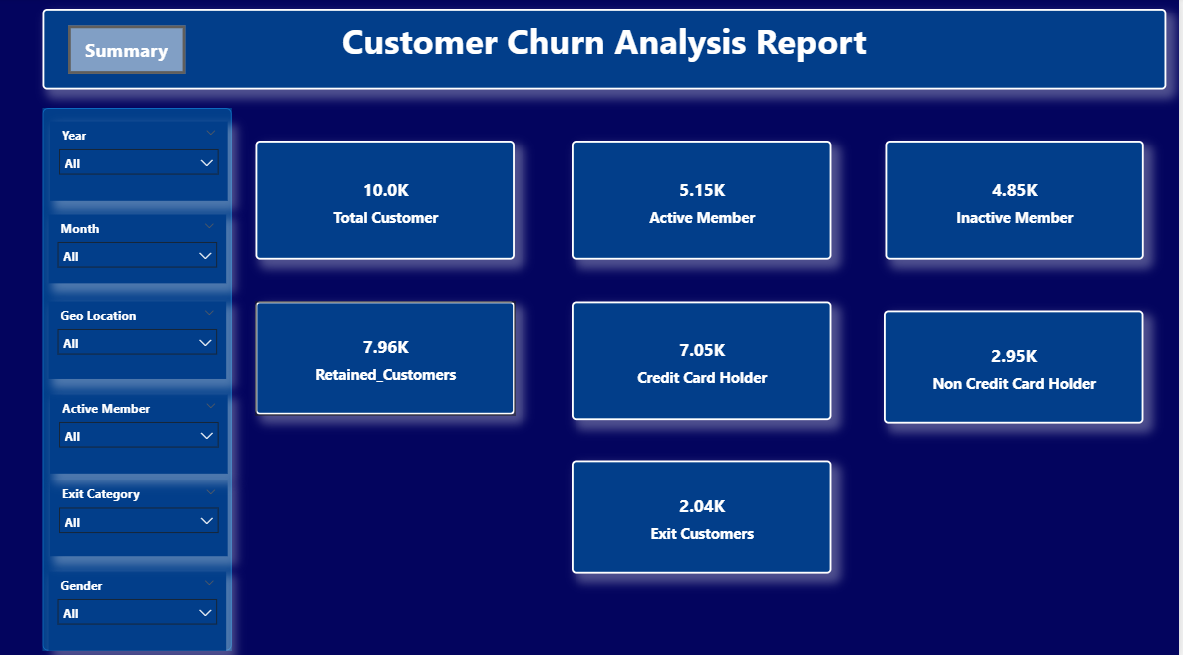

This screenshot's page, from the dashboard's own definition file:
{"tool":"powerbi","page":{"name":"All KPI","canvas":[1280,720],"ordinal":0},"visuals":[{"type":"card","fields":{"Values":["KPI.Total_customers"]},"box":[278.4,155.9,281.5,128.8],"z":0},{"type":"textbox","box":[47.7,12.7,1218.4,87.5],"z":1000},{"type":"card","fields":{"Values":["KPI.Active Customers"]},"box":[621.9,155.9,281.5,128.8],"z":2000},{"type":"card","fields":{"Values":["KPI.Inactive Member"]},"box":[960.7,155.9,279.9,128.8],"z":3000},{"type":"card","fields":{"Values":["KPI.Card Holder"]},"box":[621.9,330.8,281.5,128.8],"z":4000},{"type":"card","fields":{"Values":["KPI.Have No Card"]},"box":[959.1,340.4,281.5,122.5],"z":5000},{"type":"card","fields":{"Values":["KPI.Exit Customer"]},"box":[621.9,502.6,281.5,122.5],"z":6000},{"type":"card","fields":{"Values":["KPI.Retained_Customers"]},"box":[278.4,330.8,281.5,122.5],"z":7000},{"type":"actionButton","box":[74.8,30.2,127.2,52.5],"z":7001},{"type":"shape","box":[47.7,120.9,205.2,588.5],"z":7002},{"type":"slicer","title":"Year Slicer","fields":{"Values":["dim_date.Year"]},"box":[55.7,135.2,192.5,85.9],"z":7003},{"type":"slicer","title":"Gender Slicer","fields":{"Values":["Gender.GenderCategory"]},"box":[54.1,623.5,192.5,85.9],"z":7004},{"type":"slicer","title":"Exit category Slicer","fields":{"Values":["ExitCustomer.ExitCategory"]},"box":[55.7,523.3,192.5,82.7],"z":7005},{"type":"slicer","title":"Active mamber Slicer","fields":{"Values":["ActiveCustomer.ActiveCategory"]},"box":[55.7,431.1,192.5,85.9],"z":7006},{"type":"slicer","title":"Month Slicer","fields":{"Values":["date.Month Name"]},"box":[54.1,235.4,192.5,74.8],"z":7007},{"type":"slicer","title":"Geo Slicer","fields":{"Values":["Geography.GeographyLocation"]},"box":[54.1,330.8,192.5,84.3],"z":7008}]}

Visuals, with their boxes in screenshot pixels (x1, y1, x2, y2), scaled from the page's 1280x720 canvas onto the 1183x655 screenshot:
card - KPI.Total_customers: <region>257, 142, 517, 259</region>
textbox: <region>44, 12, 1170, 91</region>
card - KPI.Active Customers: <region>575, 142, 835, 259</region>
card - KPI.Inactive Member: <region>888, 142, 1147, 259</region>
card - KPI.Card Holder: <region>575, 301, 835, 418</region>
card - KPI.Have No Card: <region>886, 310, 1147, 421</region>
card - KPI.Exit Customer: <region>575, 457, 835, 569</region>
card - KPI.Retained_Customers: <region>257, 301, 517, 412</region>
actionButton: <region>69, 27, 187, 75</region>
shape: <region>44, 110, 234, 645</region>
"Year Slicer" slicer: <region>51, 123, 229, 201</region>
"Gender Slicer" slicer: <region>50, 567, 228, 645</region>
"Exit category Slicer" slicer: <region>51, 476, 229, 551</region>
"Active mamber Slicer" slicer: <region>51, 392, 229, 470</region>
"Month Slicer" slicer: <region>50, 214, 228, 282</region>
"Geo Slicer" slicer: <region>50, 301, 228, 378</region>
